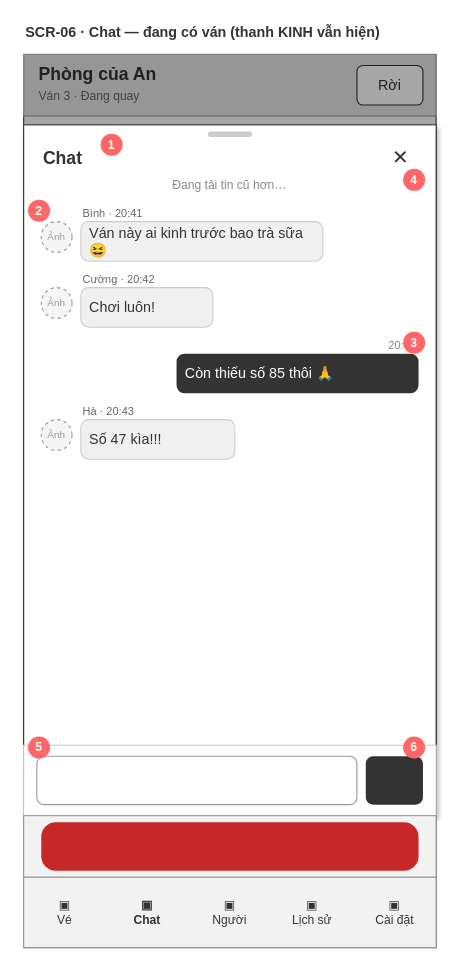
This 462x967 diagram has some shape labels left out. Each missing label, with the centre of its shape:
"Gửi" goes at point (393, 780).
"KINH!" goes at point (229, 846).
"Nhập tin nhắn…" goes at point (196, 780).
